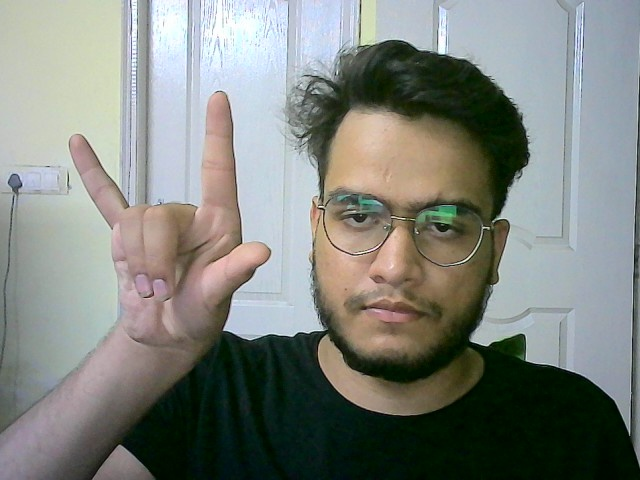I Love You: (62, 85, 279, 352)
